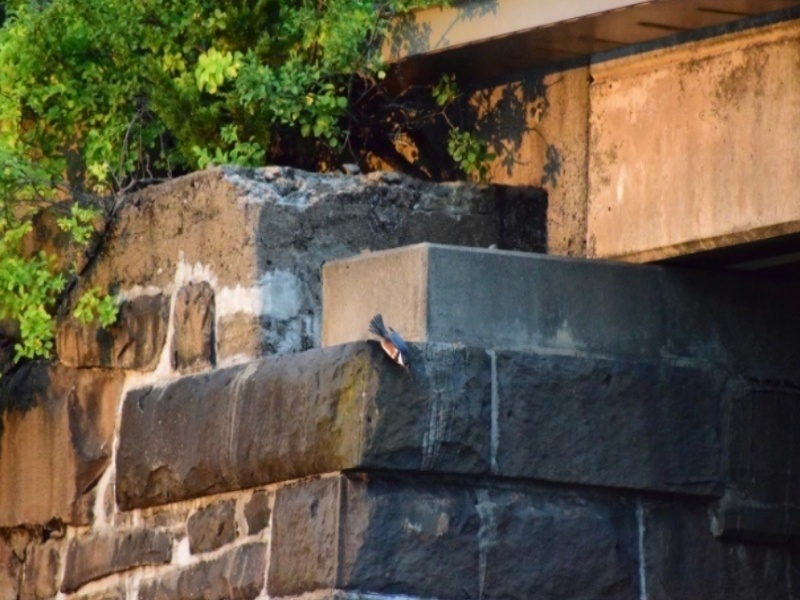kingfisher: (366, 311, 424, 383)
